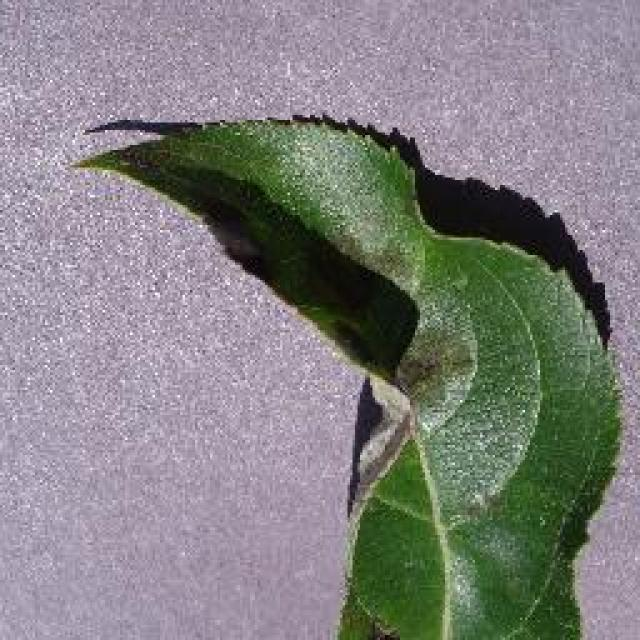apple scab disease: (67, 110, 625, 638)
